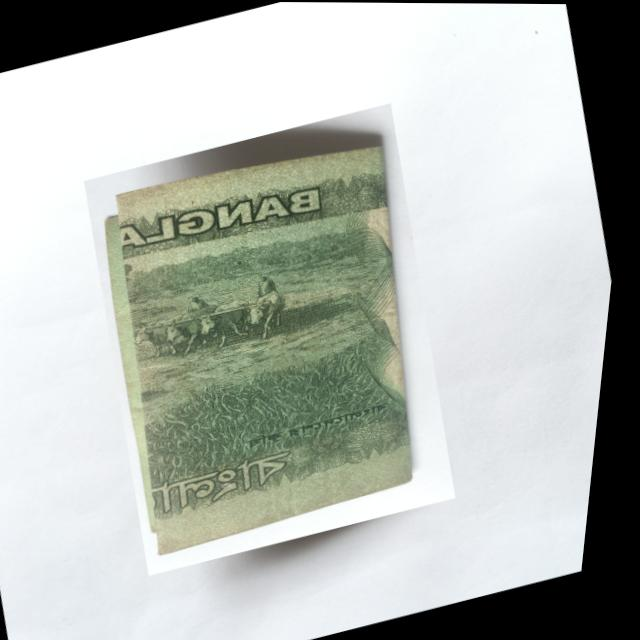Taka: (56, 100, 498, 576)
